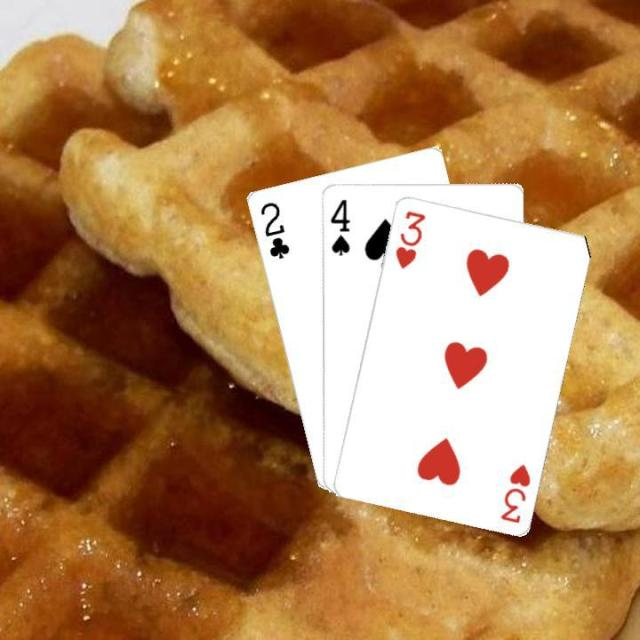2C: (256, 198, 291, 260)
3H: (391, 206, 428, 270), (496, 460, 532, 524)
4S: (325, 195, 351, 257)
